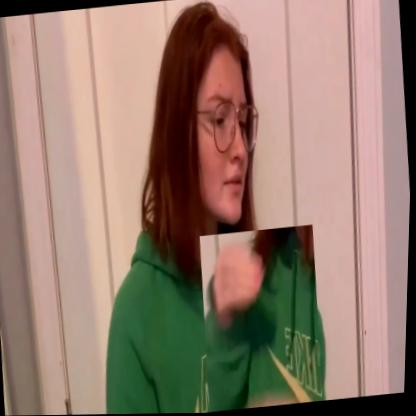Fix: (197, 226, 329, 413)
